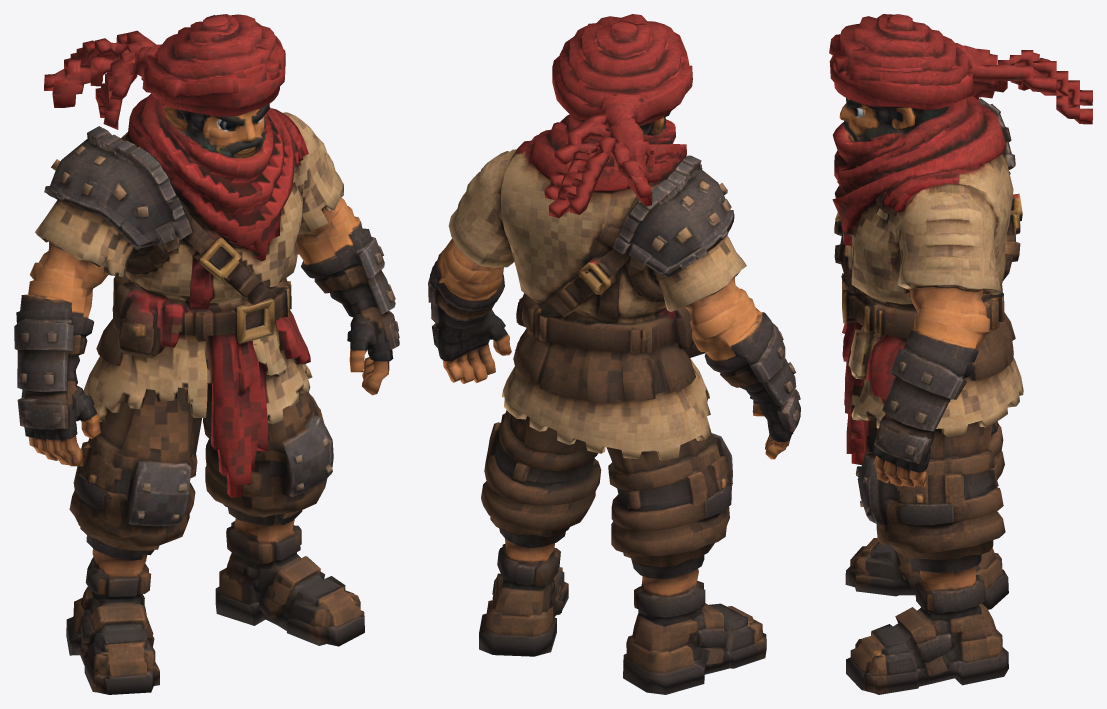
Rendered from voxel+warrior+3d+model.glb.
3 renders of one model, left to right at view 1: azimuth 30°, elevation 25°; view 2: azimuth 150°, elevation 25°; view 3: azimuth 270°, elevation 25°, orthographic. The views are drawn at different scales.
Parts seen in each view (by area): view 1: tripo_node_05cec928-b323-4c55-8092-4336a0b4f192; view 2: tripo_node_05cec928-b323-4c55-8092-4336a0b4f192; view 3: tripo_node_05cec928-b323-4c55-8092-4336a0b4f192.
Boxes of the visible parts, box(x1,y1,x2,y2) form: tripo_node_05cec928-b323-4c55-8092-4336a0b4f192: box(14, 14, 399, 694); tripo_node_05cec928-b323-4c55-8092-4336a0b4f192: box(428, 14, 800, 694); tripo_node_05cec928-b323-4c55-8092-4336a0b4f192: box(829, 14, 1092, 694).
Bounding box in the file's own units: 0.6206 × 0.9995 × 0.3911.
1 material, 1 textured.
